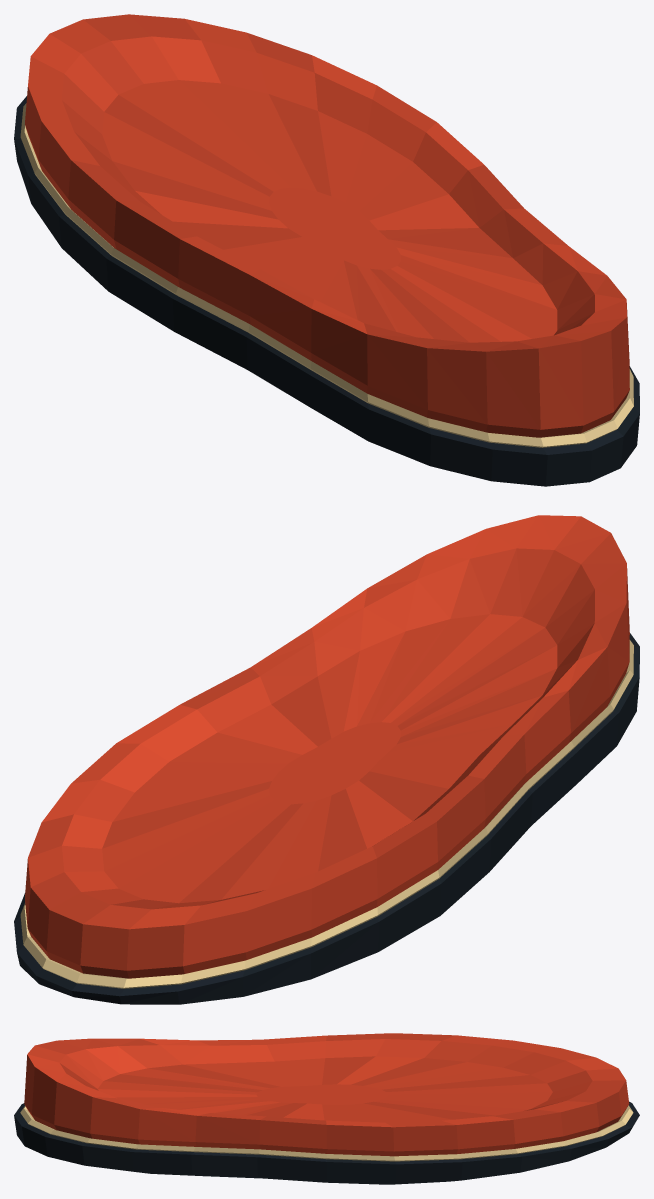
Rendered from ES_03_Rocker_Layered_Footbed.fbx.
3 renders of one model, top to bottom at view 1: azimuth 30°, elevation 25°; view 2: azimuth 150°, elevation 25°; view 3: azimuth 270°, elevation 25°, orthographic. The views are drawn at different scales.
Parts seen in each view (by area): view 1: ES_03_Rocker_Layered_Footbed; view 2: ES_03_Rocker_Layered_Footbed; view 3: ES_03_Rocker_Layered_Footbed.
Boxes of the visible parts, x1,y1,x2,y2 form: ES_03_Rocker_Layered_Footbed: [14, 14, 639, 486]; ES_03_Rocker_Layered_Footbed: [14, 515, 639, 1004]; ES_03_Rocker_Layered_Footbed: [14, 1033, 639, 1184].
Size of the model in its own units: 0.9748 by 0.4 by 2.62.
Materials: 3 (3 with a texture image).
